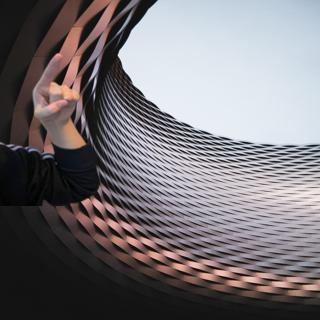IRRITATED: (29, 50, 83, 126)
